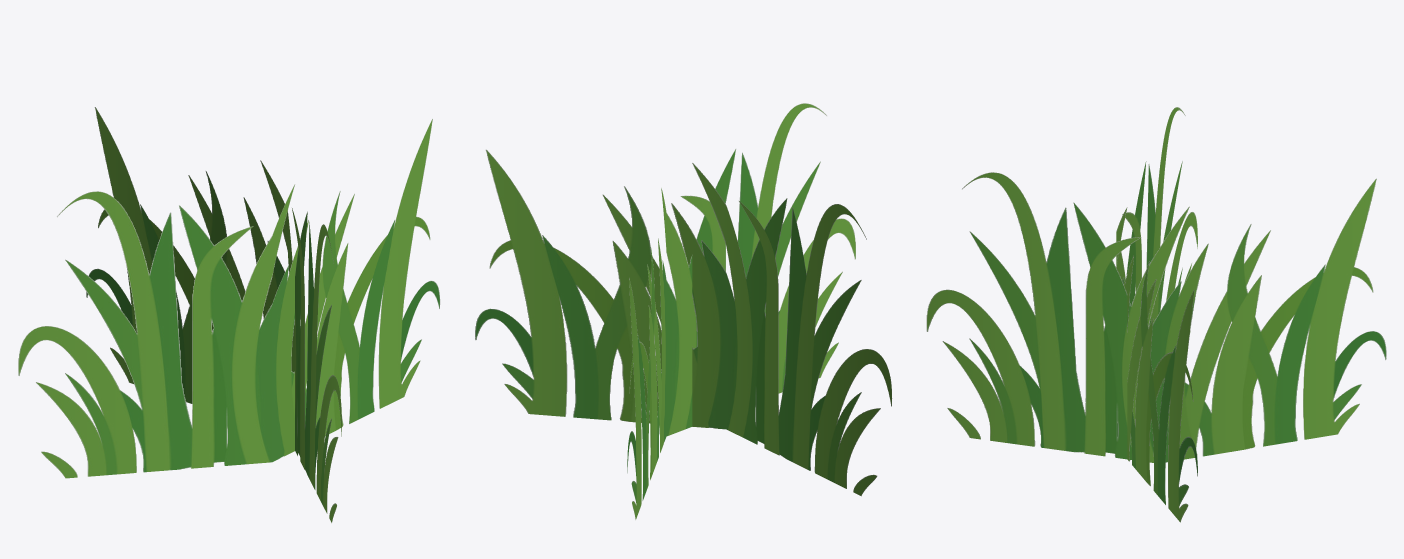
File: grass.fbx
3 views of the same model, side by side, from view 1: azimuth 30°, elevation 25°; view 2: azimuth 150°, elevation 25°; view 3: azimuth 270°, elevation 25° (orthographic). The views are drawn at different scales.
Parts seen in each view (by area): view 1: pPlane4; view 2: pPlane4; view 3: pPlane4.
Part boxes in pixels (bbox=[...]): pPlane4: bbox=[18, 107, 440, 522]; pPlane4: bbox=[475, 103, 892, 519]; pPlane4: bbox=[926, 107, 1386, 522].
Bounding box in the file's own units: 127 × 100 × 127.
1 material, 1 textured.
